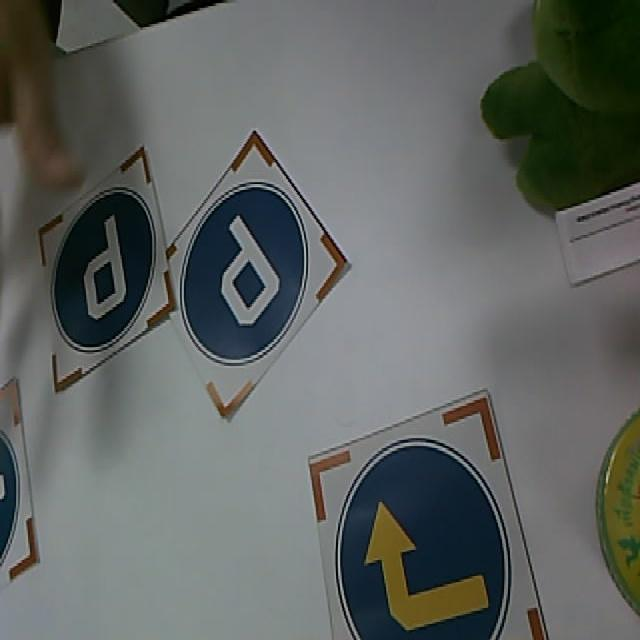parking: (183, 182, 305, 367), (58, 192, 152, 345)
turn: (333, 439, 512, 640)
